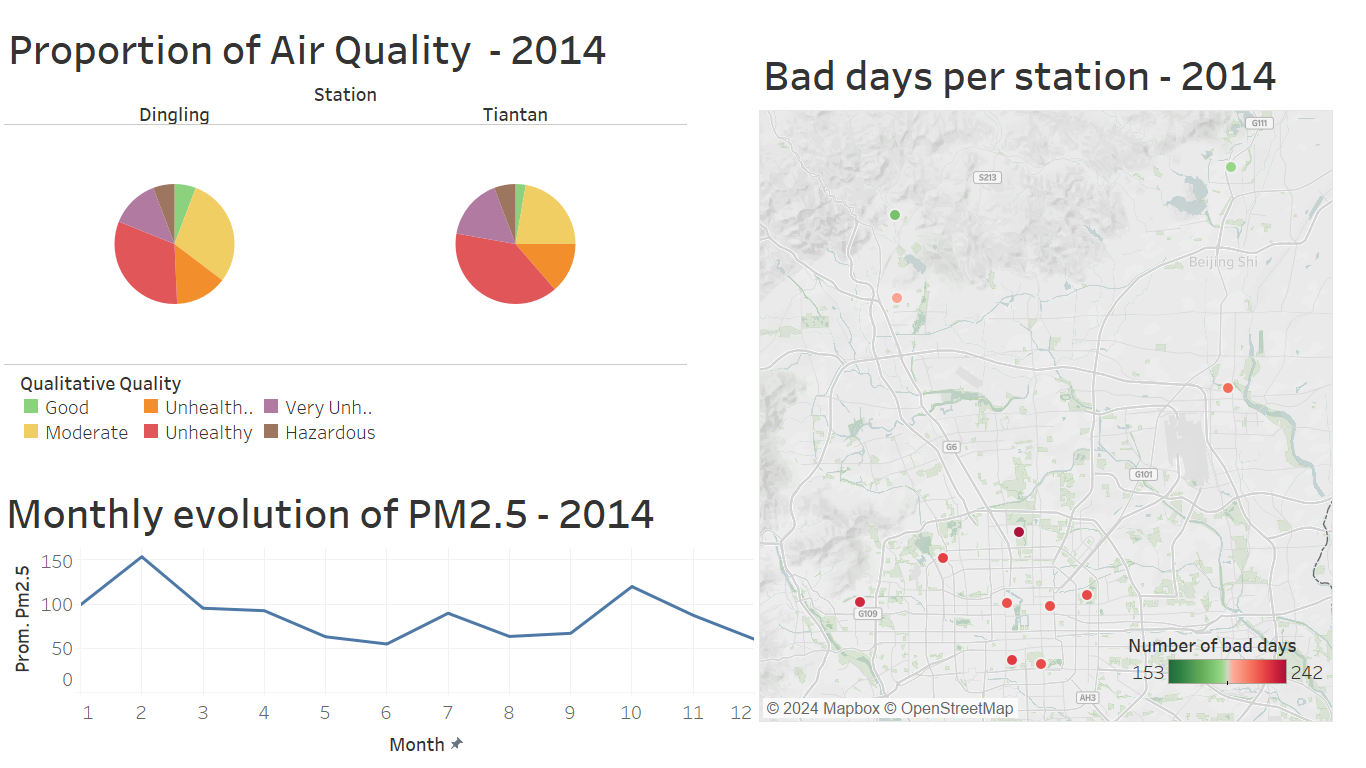

The dashboard page shown, as its layout file describes it:
{"tool":"tableau","page":{"name":"Beijing Air Quality","canvas":[1366,768],"ordinal":0},"visuals":[{"type":"worksheet","title":"Proportion of Air Quality ","mark":"Pie","cols":["station"],"box":[4,14,740,448]},{"type":"worksheet","title":"Bad days per station","mark":"Automatic","rows":["latitude"],"cols":["longitude"],"box":[759,40,586,714]},{"type":"legend","title":"Proportion of Air Quality ","param":"[federated.131vava1elcp7612cyjto0rax9kl].[none:qualitative_quality:nk]","box":[19,368,581,91]},{"type":"worksheet","title":"Monthly evolution of PM2.5","mark":"Automatic","rows":["PM2.5"],"cols":["month"],"box":[2,478,752,285]},{"type":"legend","title":"Bad days per station","param":"[federated.131vava1elcp7612cyjto0rax9kl].[__tableau_internal_object_id__].[cnt:S","box":[1128,628,200,79]}]}

Visuals, with their boxes in screenshot pixels (x1, y1, x2, y2), scaled from the page's 1366x768 canvas onto the 1366x768 screenshot:
"Proportion of Air Quality " worksheet (Pie marks): 4,14,744,462
"Bad days per station" worksheet: 759,40,1345,754
"Proportion of Air Quality " legend: 19,368,600,459
"Monthly evolution of PM2.5" worksheet: 2,478,754,763
"Bad days per station" legend: 1128,628,1328,707
